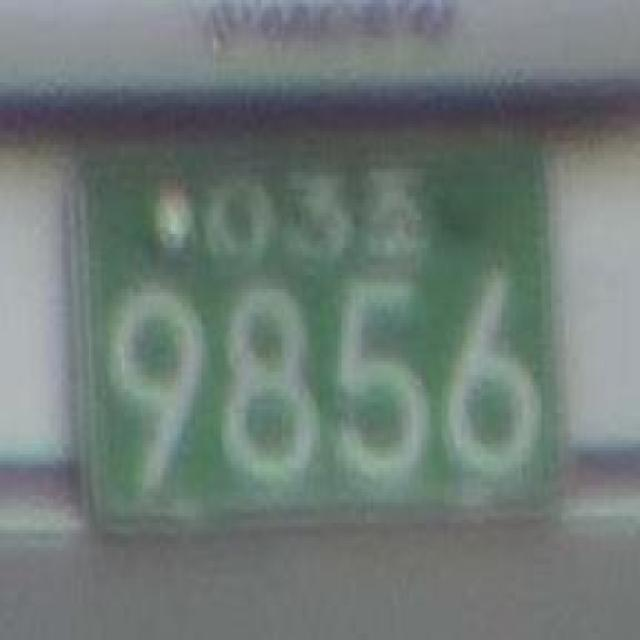illegal_plate: (53, 109, 569, 567)
